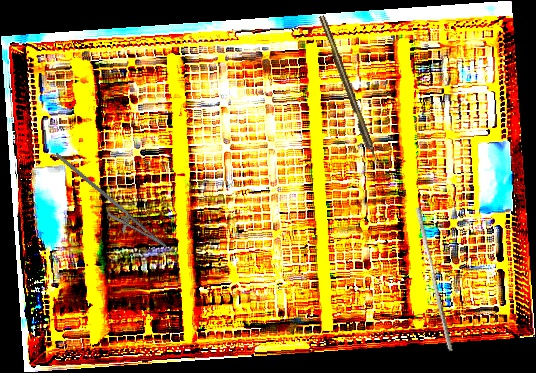Hook Surgical: (318, 14, 382, 172)
Needle Holder: (39, 151, 177, 258)
Pusher: (409, 206, 460, 353)
